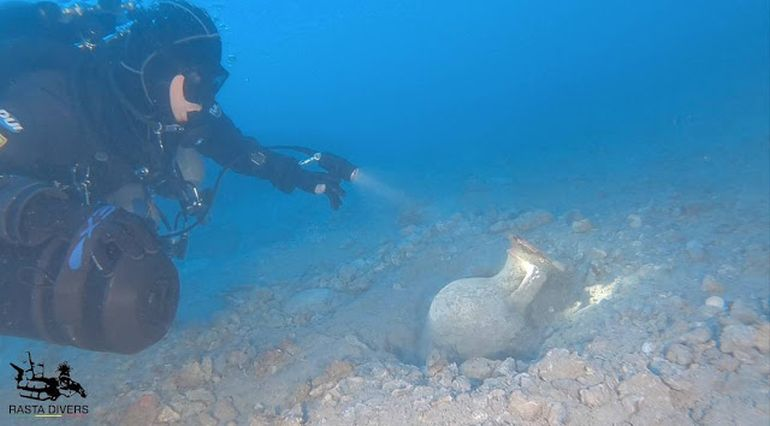amphora: (414, 235, 554, 361)
